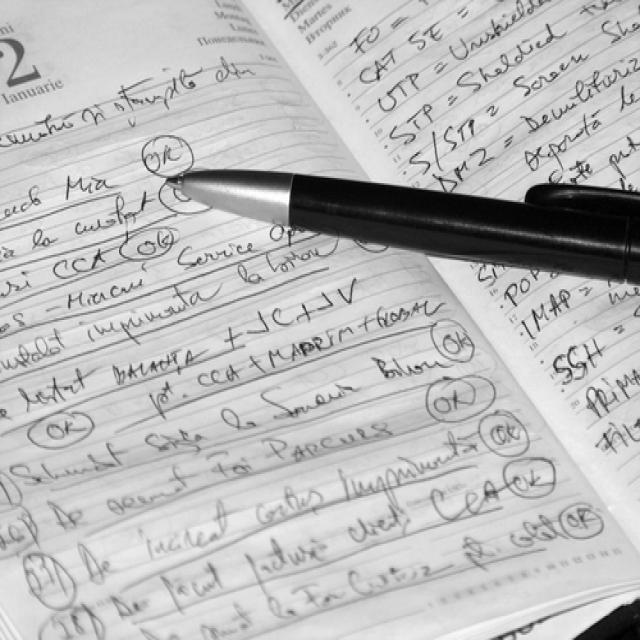pen: (143, 129, 639, 287)
